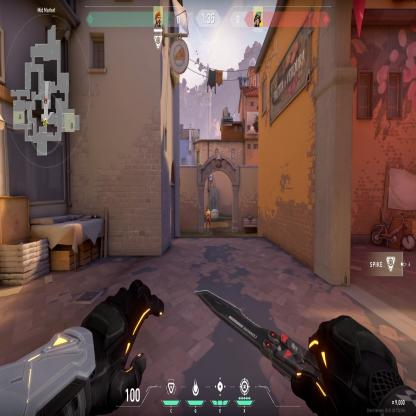enemy: (204, 206, 212, 235)
